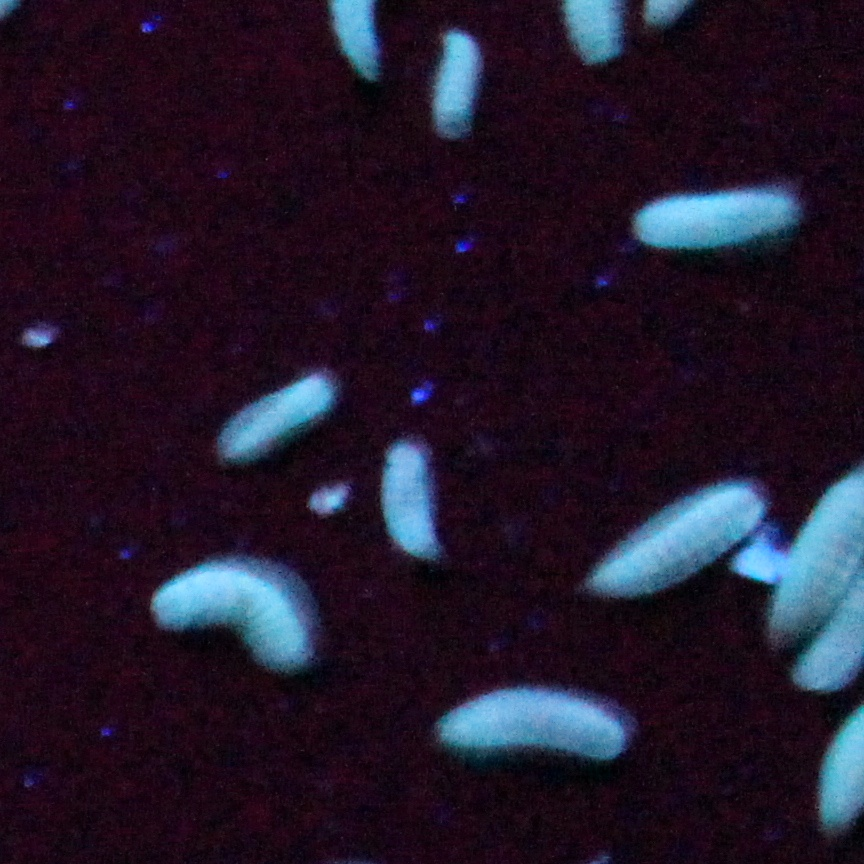larve: (591, 486, 764, 591), (152, 568, 302, 665), (441, 690, 622, 758), (636, 191, 792, 249), (223, 377, 331, 458), (383, 445, 439, 559), (434, 33, 477, 129)
